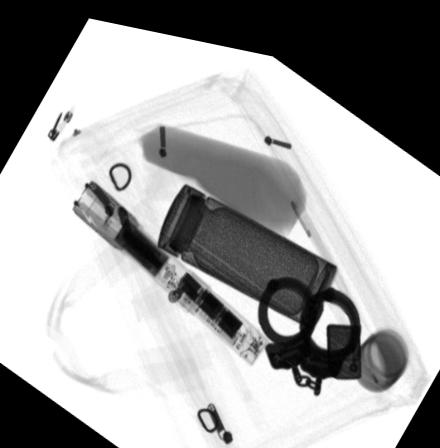Baton: (72, 173, 268, 354)
HandCuffs: (256, 262, 359, 382)
Lighter: (325, 308, 361, 365)
